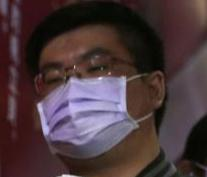OK: (35, 38, 134, 160)
